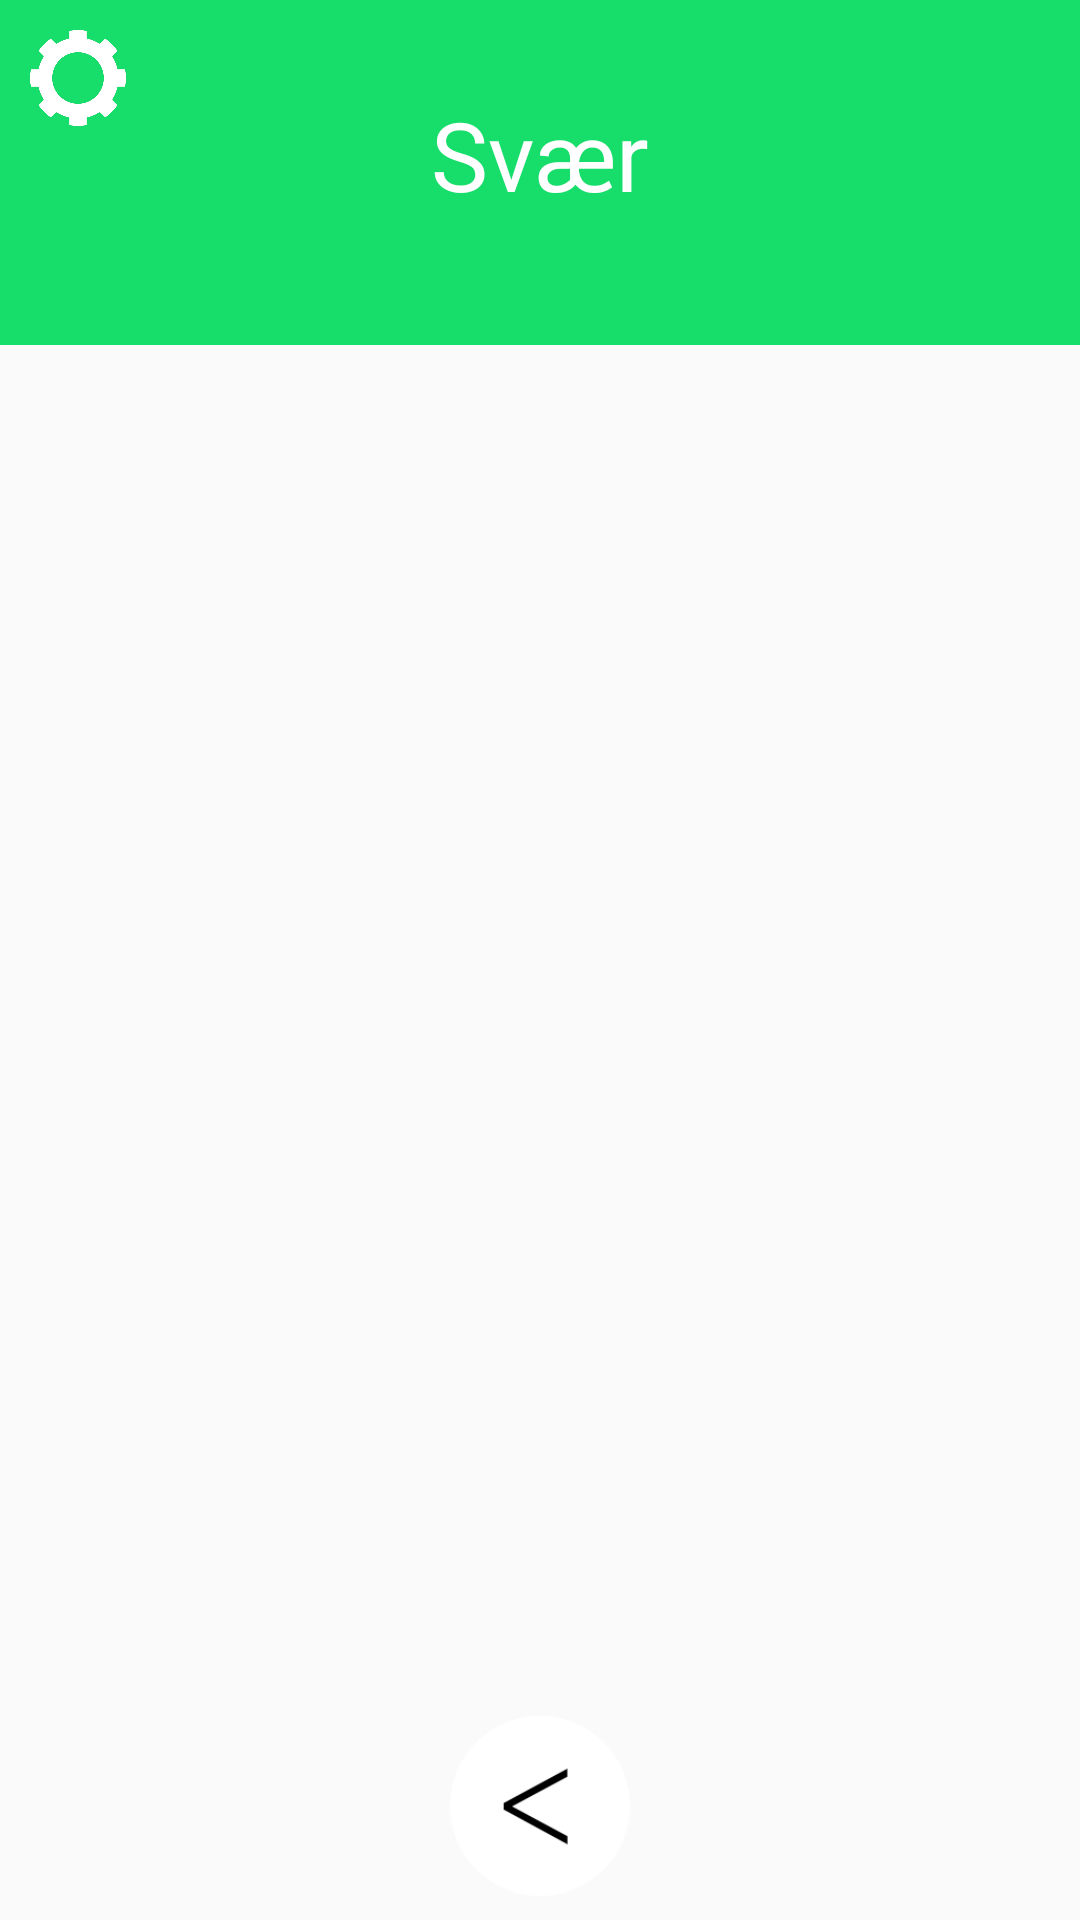

Icon click points for this 1080*1920 phone screenshot, format point (x, y):
cockwheelbtn: point (78, 78)
returnbutton: point (535, 1806)
